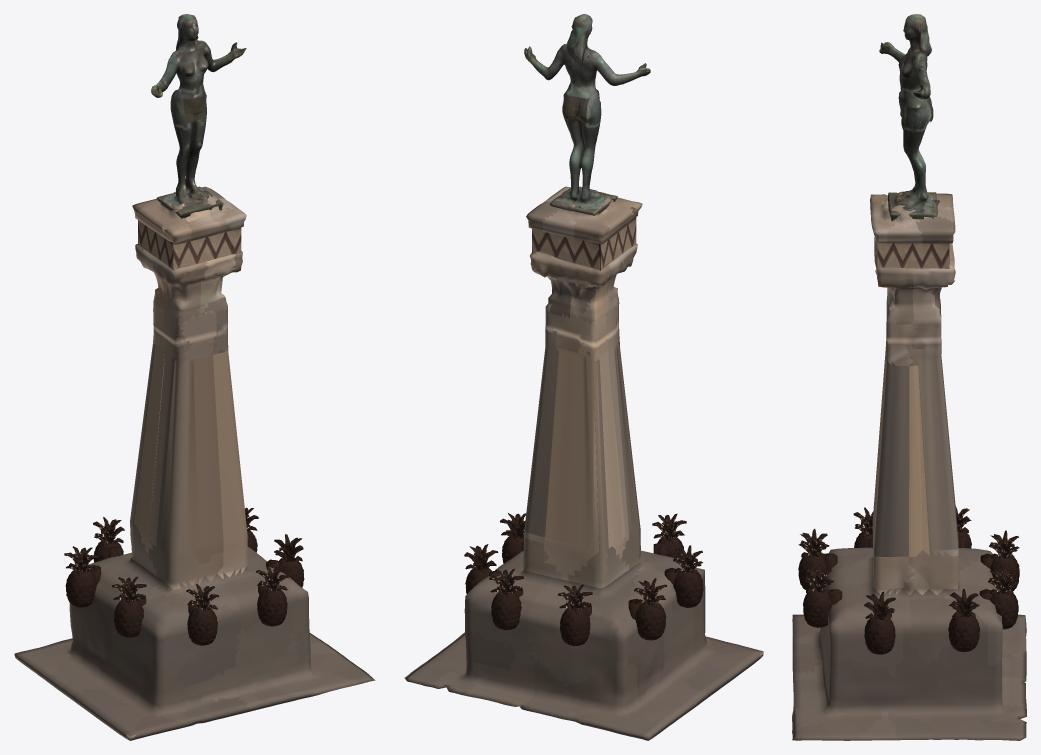
Rendered from INDIA.glb.
3 renders of one model, left to right at view 1: azimuth 30°, elevation 25°; view 2: azimuth 150°, elevation 25°; view 3: azimuth 270°, elevation 25°, orthographic.
Visible parts, largest first — view 1: Mesh_0.001, Mesh_0, Cube, 21340_Pineapple_V1.002, 21340_Pineapple_V1.003, 21340_Pineapple_V1.007, 21340_Pineapple_V1.006, 21340_Pineapple_V1, 21340_Pineapple_V1.005; view 2: Mesh_0.001, Mesh_0, Cube, 21340_Pineapple_V1.002, 21340_Pineapple_V1.003, 21340_Pineapple_V1.005, 21340_Pineapple_V1.004, 21340_Pineapple_V1.007, 21340_Pineapple_V1.001, 21340_Pineapple_V1, Plane; view 3: Mesh_0.001, Mesh_0, Cube, 21340_Pineapple_V1.006, 21340_Pineapple_V1, 21340_Pineapple_V1.001, 21340_Pineapple_V1.004, 21340_Pineapple_V1.007, 21340_Pineapple_V1.005, 21340_Pineapple_V1.003, 21340_Pineapple_V1.002.
Boxes of the visible parts, x1=… form: Mesh_0.001: x1=14, y1=186, x2=375, y2=740; Mesh_0: x1=151, y1=14, x2=246, y2=218; Cube: x1=138, y1=220, x2=241, y2=270; 21340_Pineapple_V1.002: x1=64, y1=546, x2=101, y2=607; 21340_Pineapple_V1.003: x1=112, y1=576, x2=146, y2=637; 21340_Pineapple_V1.007: x1=186, y1=584, x2=218, y2=645; 21340_Pineapple_V1.006: x1=256, y1=564, x2=288, y2=626; 21340_Pineapple_V1: x1=266, y1=534, x2=304, y2=587; 21340_Pineapple_V1.005: x1=93, y1=517, x2=124, y2=562; Mesh_0.001: x1=404, y1=186, x2=763, y2=740; Mesh_0: x1=524, y1=14, x2=650, y2=215; Cube: x1=532, y1=215, x2=636, y2=270; 21340_Pineapple_V1.002: x1=628, y1=578, x2=666, y2=640; 21340_Pineapple_V1.003: x1=664, y1=545, x2=703, y2=607; 21340_Pineapple_V1.005: x1=558, y1=584, x2=592, y2=646; 21340_Pineapple_V1.004: x1=489, y1=569, x2=523, y2=630; 21340_Pineapple_V1.007: x1=652, y1=513, x2=686, y2=558; 21340_Pineapple_V1.001: x1=464, y1=544, x2=499, y2=593; 21340_Pineapple_V1: x1=500, y1=513, x2=526, y2=563; Plane: x1=563, y1=89, x2=599, y2=122; Mesh_0.001: x1=792, y1=191, x2=1026, y2=740; Mesh_0: x1=879, y1=14, x2=937, y2=220; Cube: x1=877, y1=243, x2=949, y2=268; 21340_Pineapple_V1.006: x1=803, y1=564, x2=842, y2=627; 21340_Pineapple_V1: x1=864, y1=591, x2=895, y2=654; 21340_Pineapple_V1.001: x1=948, y1=588, x2=979, y2=651; 21340_Pineapple_V1.004: x1=979, y1=566, x2=1018, y2=629; 21340_Pineapple_V1.007: x1=798, y1=529, x2=837, y2=589; 21340_Pineapple_V1.005: x1=980, y1=530, x2=1019, y2=591; 21340_Pineapple_V1.003: x1=853, y1=507, x2=873, y2=547; 21340_Pineapple_V1.002: x1=955, y1=506, x2=971, y2=548.
Bounding box in the file's own units: 3.8 × 9.6 × 3.08.
3 materials, 3 textured.
